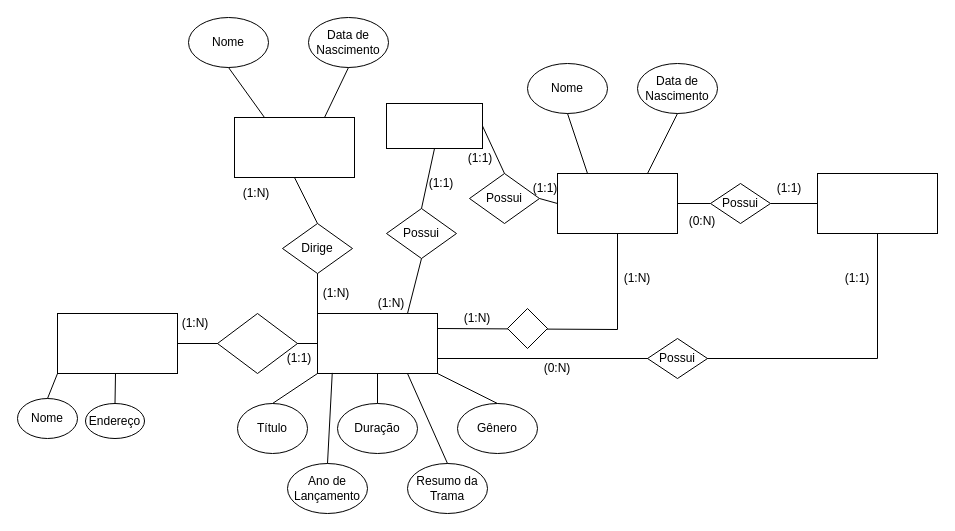
Image size: 955x531. Some labels were removed from this diagram. The shapes that lost their labels are listed below. From the top down, each one's box as (x1, y1, x2, y2) in pixels, then its label:
(386, 102, 482, 148): Papel
(234, 116, 354, 178): Diretores
(556, 172, 678, 234): Atores
(816, 172, 938, 234): Falas
(56, 312, 178, 374): Companhias Produtoras
(216, 312, 298, 374): Produzido
(316, 312, 438, 374): FILME
(506, 308, 548, 348): Atua
